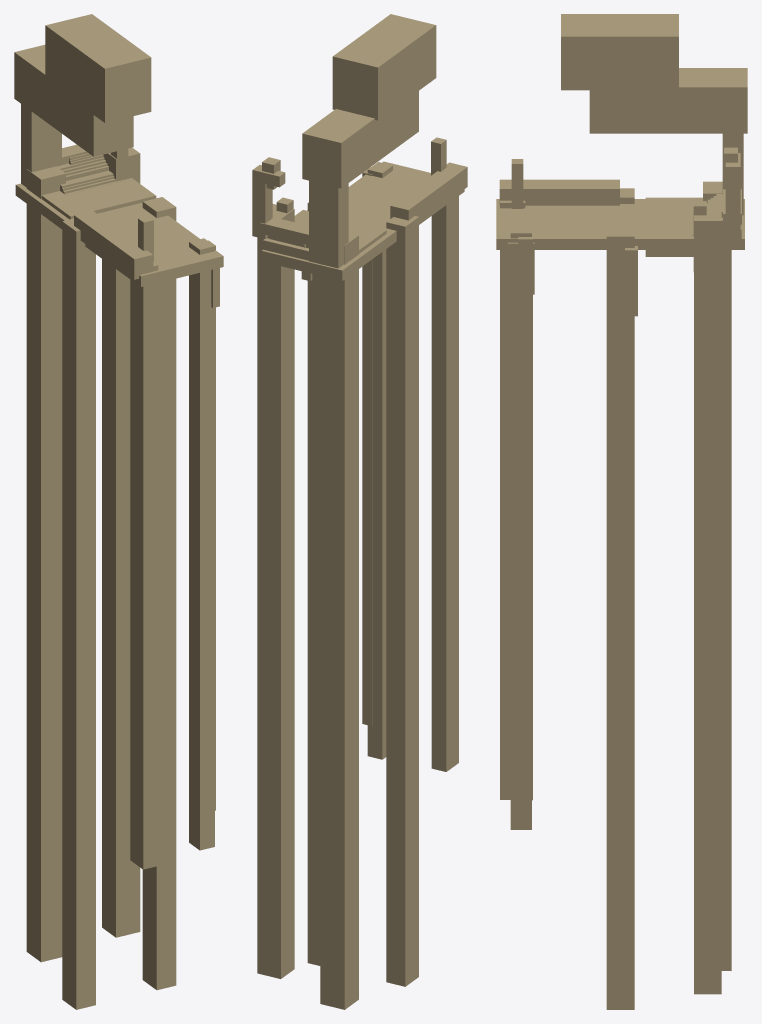
File: Bridge1.fbx
3 renders of one model, left to right at view 1: azimuth 30°, elevation 25°; view 2: azimuth 150°, elevation 25°; view 3: azimuth 270°, elevation 25°, orthographic. The views are drawn at different scales.
Parts seen in each view (by area): view 1: Bridge3, Bridge2, Bridge, Bridge4, Bridge5, Bridge1, Bridge22, Bridge21, Bridge31, Bridge29, Bridge27, Bridge20 (+3 smaller); view 2: Bridge3, Bridge, Bridge2, Bridge6, Bridge4, Bridge22, Bridge1, Bridge21, Bridge5, Bridge7, Bridge31, Bridge20 (+6 smaller); view 3: Bridge4, Bridge, Bridge22, Bridge21, Bridge7, Bridge3, Bridge31, Bridge5, Bridge1, Bridge27, Bridge29, Bridge6 (+5 smaller).
Part boxes in pixels (x1,y1,x2,y2): Bridge3: (26,166,65,962); Bridge2: (62,218,95,1009); Bridge: (102,147,140,937); Bridge4: (142,197,176,990); Bridge5: (132,263,158,869); Bridge1: (189,238,214,850); Bridge22: (45,14,151,122); Bridge21: (14,44,133,156); Bridge31: (15,183,223,286); Bridge29: (74,210,153,279); Bridge27: (41,178,156,219); Bridge20: (21,104,61,187); Bridge3: (320,233,358,1009); Bridge: (257,204,294,978); Bridge2: (386,216,418,986); Bridge6: (431,197,456,771); Bridge4: (307,202,320,965); Bridge22: (332,14,436,120); Bridge1: (367,162,392,759); Bridge21: (302,91,418,188); Bridge5: (448,196,458,770); Bridge7: (362,167,372,726); Bridge31: (261,161,464,280); Bridge20: (309,180,348,268); Bridge4: (606,227,634,1009); Bridge: (694,209,721,994); Bridge22: (561,14,678,90); Bridge21: (589,68,747,133); Bridge7: (518,234,532,800); Bridge3: (703,181,731,970); Bridge31: (496,199,744,249); Bridge5: (500,200,511,799); Bridge1: (510,226,531,829); Bridge27: (645,197,702,256); Bridge29: (499,179,619,205); Bridge6: (504,200,525,799).
Size of the model in its own units: 23.75 by 201 by 48.25.
